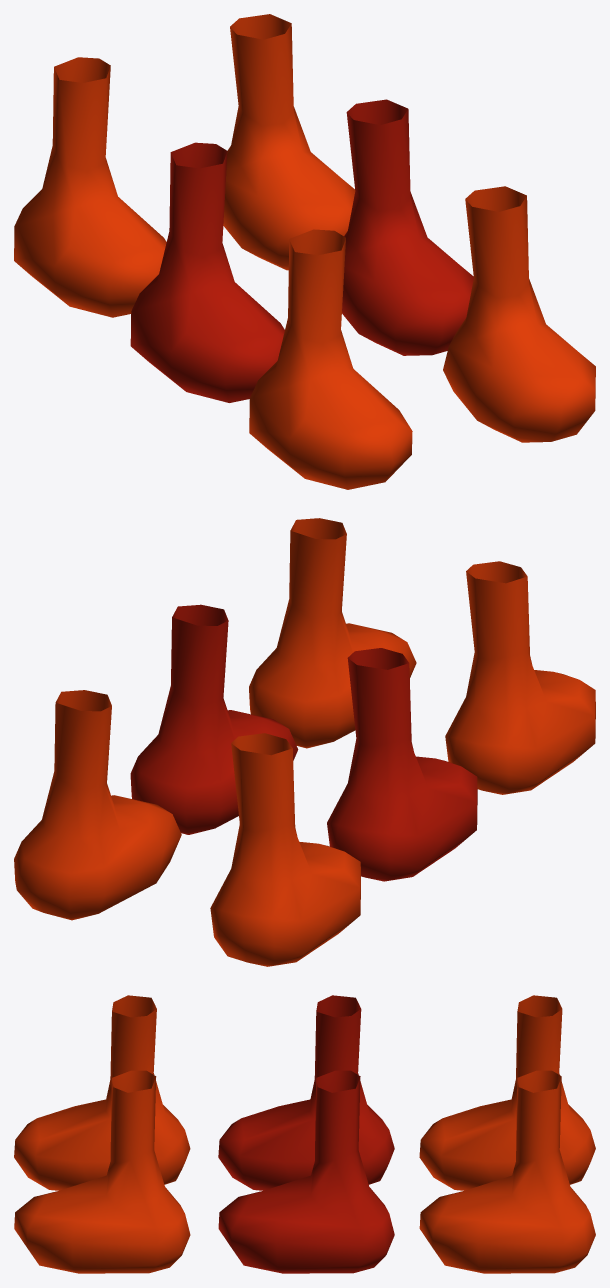
The model's file is Feet_Centipede.glb.
3 renders of one model, top to bottom at view 1: azimuth 30°, elevation 25°; view 2: azimuth 150°, elevation 25°; view 3: azimuth 270°, elevation 25°, orthographic. The views are drawn at different scales.
Parts seen in each view (by area): view 1: Feet_Centipede; view 2: Feet_Centipede; view 3: Feet_Centipede.
Part boxes in pixels (<box>): Feet_Centipede: <box>14,14,595,489</box>; Feet_Centipede: <box>14,518,595,966</box>; Feet_Centipede: <box>14,995,595,1273</box>.
Size of the model in its own units: 0.4333 by 0.2769 by 0.831.
1 material, 1 textured.
